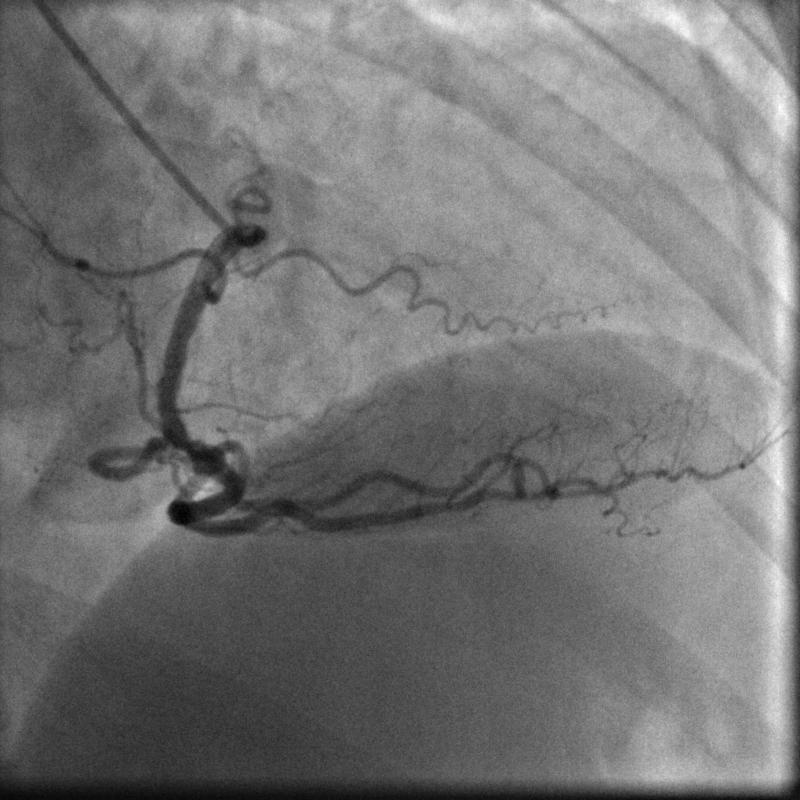Stenosis: (155, 423, 215, 463)
